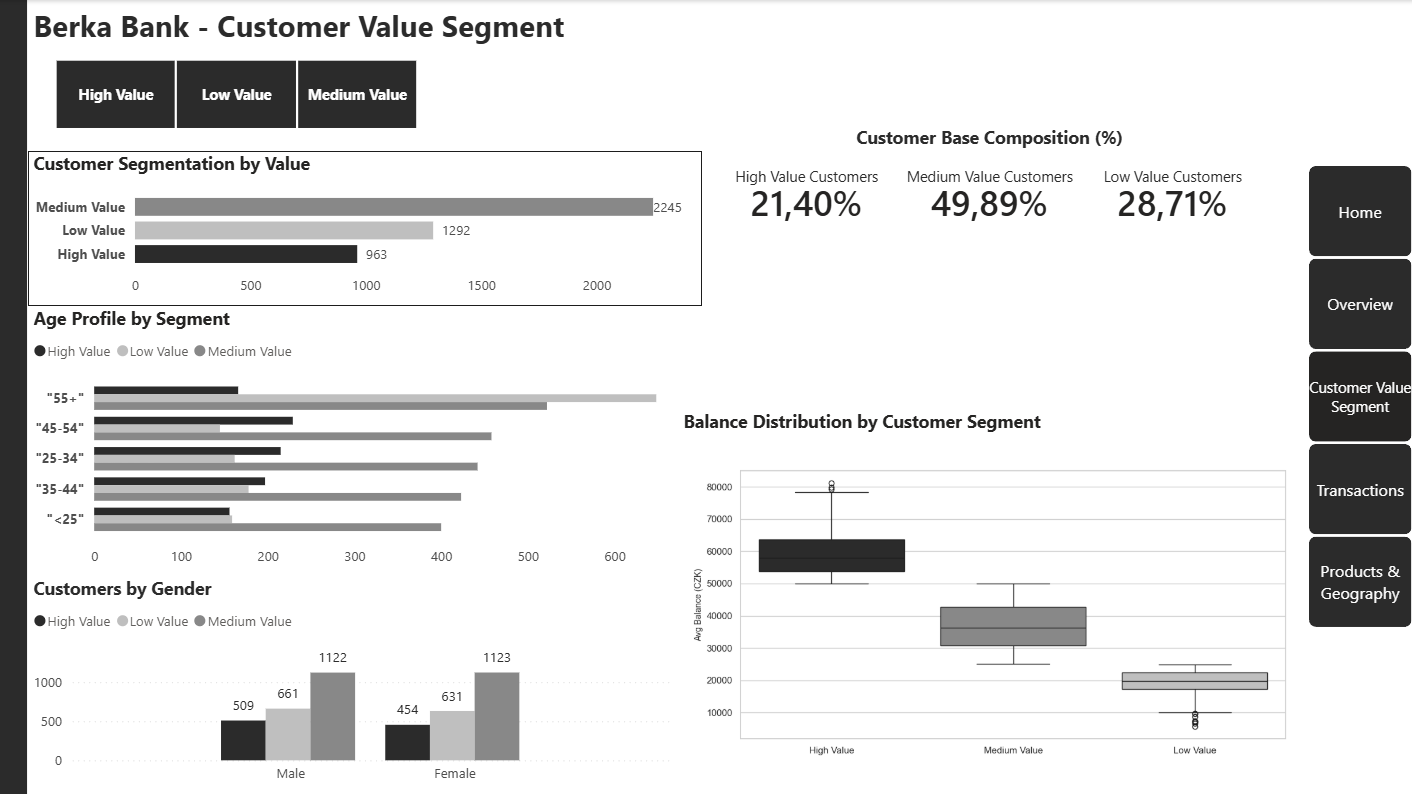

What the dashboard file says about the page in this screenshot:
{"tool":"powerbi","page":{"name":"Customer Value Segment","canvas":[1280,720],"ordinal":2},"visuals":[{"type":"shape","box":[0,0,24.5,720.2],"z":0},{"type":"group","id":"g1","title":"Grupo 1","box":[648.2,137.4,166.1,88.9],"z":0,"group":"g4"},{"type":"cardVisual","title":"Total Clients (Owners)","fields":{"Data":["_medidas.pct_high_value"]},"box":[648.2,137.4,166.5,89],"z":0,"group":"g1"},{"type":"cardVisual","title":"Total Clients (Owners)","fields":{"Data":["_medidas.pct_medium_value"]},"box":[814.3,137.4,166.5,89],"z":0,"group":"g3"},{"type":"cardVisual","title":"Total Clients (Owners)","fields":{"Data":["_medidas.pct_low_value"]},"box":[980.4,137.4,166.5,89],"z":0,"group":"g2"},{"type":"group","id":"g2","title":"Grupo 1","box":[980.4,137.4,166.1,88.9],"z":1000,"group":"g4"},{"type":"textbox","box":[648.2,146.5,166.5,28.1],"z":1000,"group":"g1"},{"type":"textbox","box":[814.3,146.5,166.5,28.1],"z":1000,"group":"g3"},{"type":"textbox","box":[980.4,146.5,166.5,28.1],"z":1000,"group":"g2"},{"type":"pageNavigator","box":[1186.8,150.8,93.4,418.4],"z":1000},{"type":"textbox","box":[25.6,0,523.7,48.5],"z":2000},{"type":"textbox","box":[768.3,109,258.6,32.3],"z":2000,"group":"g4"},{"type":"slicer","fields":{"Values":["accounts.client_value_segment"]},"box":[25.5,48.2,376.4,75.5],"z":3000},{"type":"group","id":"g3","title":"Grupo 2","box":[814.3,137.4,166.5,89],"z":3000,"group":"g4"},{"type":"clusteredBarChart","title":"Customer Segmentation by Value","fields":{"Category":["accounts.client_value_segment"],"Y":["_medidas.total_clients_owners"]},"box":[25.5,137.3,610.9,140],"z":4000},{"type":"clusteredBarChart","title":"Age Profile by Segment","fields":{"Y":["_medidas.total_clients_owners"],"Category":["clients.age_band"],"Series":["accounts.client_value_segment"]},"box":[25.7,277.8,610.7,244.8],"z":5000},{"type":"clusteredColumnChart","title":"Customers by Gender","fields":{"Category":["clients.gender"],"Y":["_medidas.total_clients_owners"],"Series":["accounts.client_value_segment"]},"box":[25.7,522.6,589.6,197.1],"z":6000},{"type":"pythonVisual","title":"Balance Distribution by Customer Segment","fields":{"Values":["accounts.account_id","accounts.client_value_segment","_medidas.avg_balance_account"]},"box":[615,371,566,349],"z":7000},{"type":"group","id":"g4","title":"Grupo 3","box":[648.2,109,498.3,117.4],"z":8000}]}

Visuals, with their boxes in screenshot pixels (x1, y1, x2, y2), scaled from the page's 1280x720 canvas onto the 1412x794 screenshot:
shape: l=0, t=0, r=27, b=793
"Grupo 1" group: l=715, t=152, r=898, b=250
"Total Clients (Owners)" cardVisual: l=715, t=152, r=899, b=250
"Total Clients (Owners)" cardVisual: l=898, t=152, r=1082, b=250
"Total Clients (Owners)" cardVisual: l=1082, t=152, r=1265, b=250
"Grupo 1" group: l=1082, t=152, r=1265, b=250
textbox: l=715, t=162, r=899, b=193
textbox: l=898, t=162, r=1082, b=193
textbox: l=1082, t=162, r=1265, b=193
pageNavigator: l=1309, t=166, r=1411, b=628
textbox: l=28, t=0, r=606, b=53
textbox: l=848, t=120, r=1133, b=156
slicer - accounts.client_value_segment: l=28, t=53, r=443, b=136
"Grupo 2" group: l=898, t=152, r=1082, b=250
"Customer Segmentation by Value" clusteredBarChart: l=28, t=151, r=702, b=306
"Age Profile by Segment" clusteredBarChart: l=28, t=306, r=702, b=576
"Customers by Gender" clusteredColumnChart: l=28, t=576, r=679, b=793
"Balance Distribution by Customer Segment" pythonVisual: l=678, t=409, r=1303, b=793
"Grupo 3" group: l=715, t=120, r=1265, b=250
